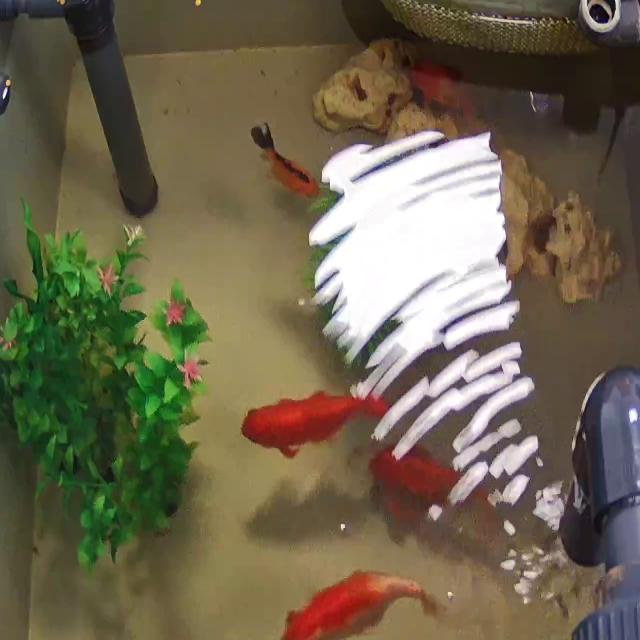fish: (286, 568, 423, 640), (242, 389, 362, 460), (376, 444, 474, 522), (250, 124, 318, 204), (408, 60, 468, 107)
